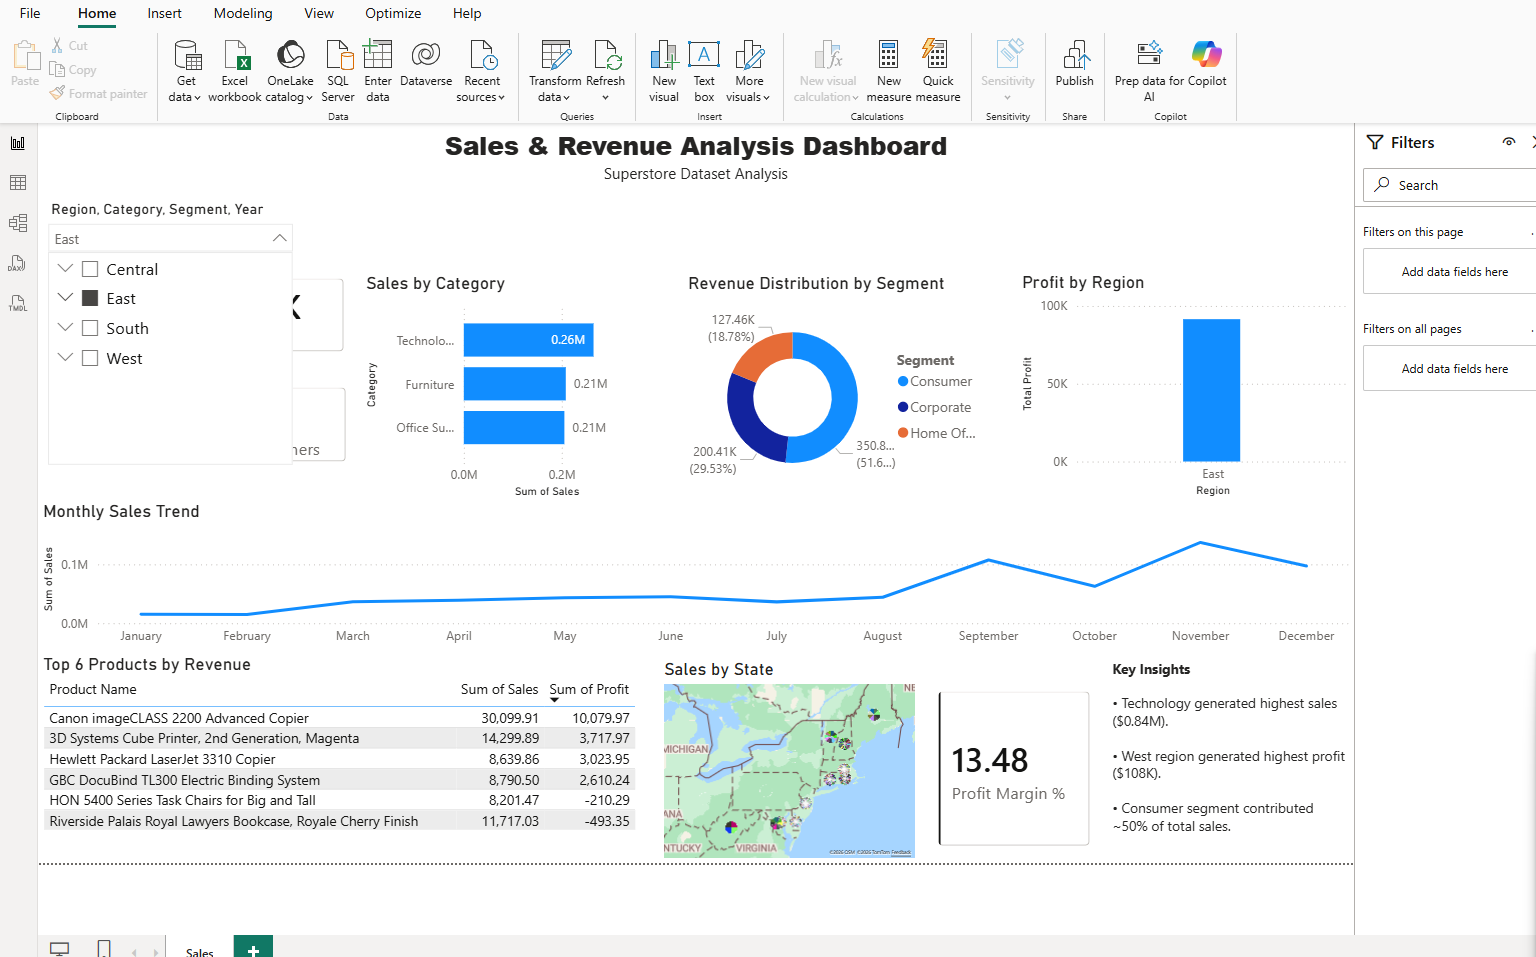

This screenshot's page, from the dashboard's own definition file:
{"tool":"powerbi","page":{"name":"Sales","canvas":[1280,720],"ordinal":0},"visuals":[{"type":"cardVisual","fields":{"Data":["Orders.Total Sales"]},"box":[0,134.4,163.3,105.6],"z":0},{"type":"cardVisual","fields":{"Data":["Orders.Total Profit"]},"box":[131.1,134.4,183.3,105.6],"z":1000},{"type":"cardVisual","fields":{"Data":["Orders.Total Orders"]},"box":[0,240,154.4,105.6],"z":2000},{"type":"cardVisual","fields":{"Data":["Orders.Total Customers"]},"box":[131.1,240,185.6,106.7],"z":3000},{"type":"barChart","title":"Sales by Category","fields":{"Category":["Orders.Category"],"Y":["Sum(Orders.Sales)"]},"box":[314.4,145.6,281.1,223.3],"z":4000},{"type":"donutChart","title":"Revenue Distribution by Segment","fields":{"Category":["Orders.Segment"],"Y":["Sum(Orders.Sales)"]},"box":[627.8,145.6,300,223.3],"z":5000},{"type":"columnChart","title":"Profit by Region","fields":{"Category":["Orders.Region"],"Y":["Orders.Total Profit"]},"box":[952.2,144.4,327.8,223.3],"z":6000},{"type":"lineChart","title":"Monthly Sales Trend","fields":{"Y":["Sum(Orders.Sales)"],"Category":["Orders.Order Date.Variation.Date Hierarchy.Month"]},"box":[0,367.8,1280,148.9],"z":7000},{"type":"tableEx","title":"Top 6 Products by Revenue","fields":{"Values":["Orders.Product Name","Sum(Orders.Sales)","Sum(Orders.Profit)"]},"box":[0,516.7,604.4,203.3],"z":8000},{"type":"azureMap","title":"Sales by State","fields":{"Category":["Orders.State"],"Series":["Orders.Sales"]},"box":[604.4,521.1,254.4,198.9],"z":9000},{"type":"slicer","fields":{"Values":["Orders.Region","Orders.Category","Orders.Segment","Orders.Order Date.Variation.Date Hierarchy.Year"]},"box":[0,70,277.2,64.2],"z":10000},{"type":"textbox","box":[894,521,386,199],"z":11000},{"type":"textbox","box":[0,0,1280,70],"z":12000},{"type":"textbox","box":[1040,516.7,240,203.3],"z":13000},{"type":"cardVisual","fields":{"Data":["Orders.Profit Margin %"]},"box":[858.9,535.6,181.1,184.4],"z":14000}]}

Visuals, with their boxes on the page's 1280x720 design canvas (x1, y1, x2, y2). These are canvas units, not pixel positions in the 1536x957 screenshot, which may show the page scaled, cropped or inside an application window:
cardVisual - Orders.Total Sales: locate(0, 134, 163, 240)
cardVisual - Orders.Total Profit: locate(131, 134, 314, 240)
cardVisual - Orders.Total Orders: locate(0, 240, 154, 346)
cardVisual - Orders.Total Customers: locate(131, 240, 317, 347)
"Sales by Category" barChart: locate(314, 146, 596, 369)
"Revenue Distribution by Segment" donutChart: locate(628, 146, 928, 369)
"Profit by Region" columnChart: locate(952, 144, 1280, 368)
"Monthly Sales Trend" lineChart: locate(0, 368, 1280, 517)
"Top 6 Products by Revenue" tableEx: locate(0, 517, 604, 720)
"Sales by State" azureMap: locate(604, 521, 859, 720)
slicer - Orders.Region x Orders.Category: locate(0, 70, 277, 134)
textbox: locate(894, 521, 1280, 720)
textbox: locate(0, 0, 1280, 70)
textbox: locate(1040, 517, 1280, 720)
cardVisual - Orders.Profit Margin %: locate(859, 536, 1040, 720)
